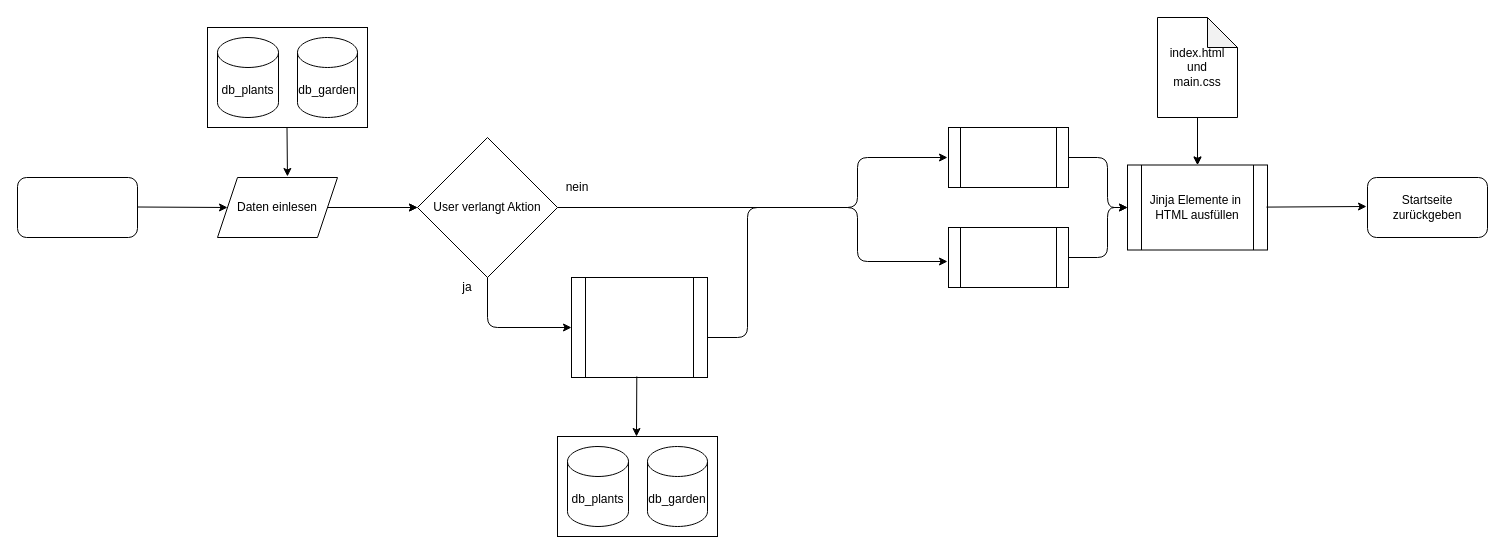
Some shapes in this 1505 by 554 pixel diagram are drawn without their labels. Here are the shapes that lost their labels. From the top down, the box of each, then its label:
(948, 126, 1068, 188): plant_info generieren für HTML
(16, 176, 138, 238): Startseite aufrufen
(948, 226, 1068, 288): Dropdown Optionen generieren für HTML
(570, 276, 708, 378): Aktionen ausführen und Datengrundlagen anpassen
